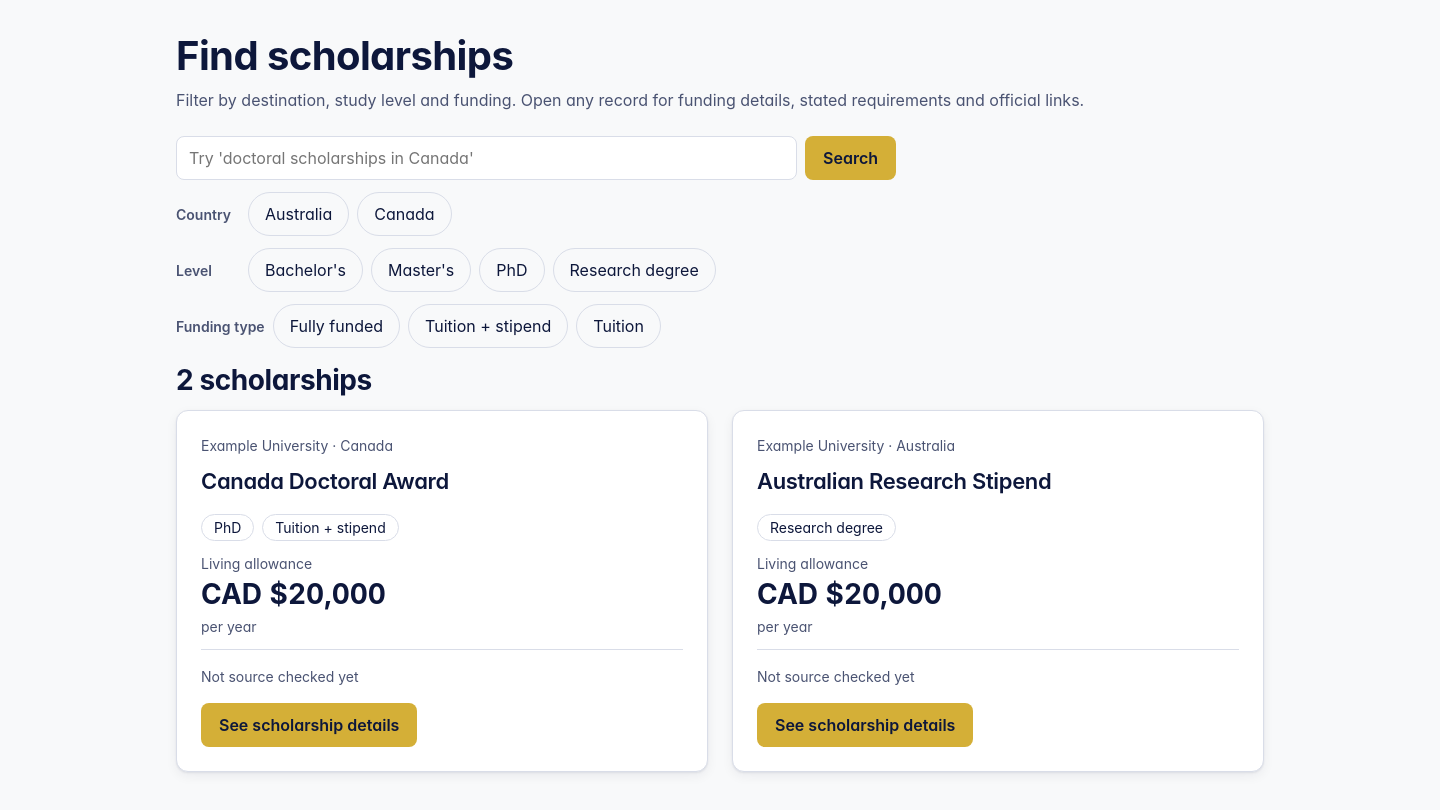
Scenario: ExplorePage › submits a search and shows it as an active filter
The image size is (1440, 810).
Type "australia" into the field named "Search scholarships" at (486, 158), box [176,136,797,180]
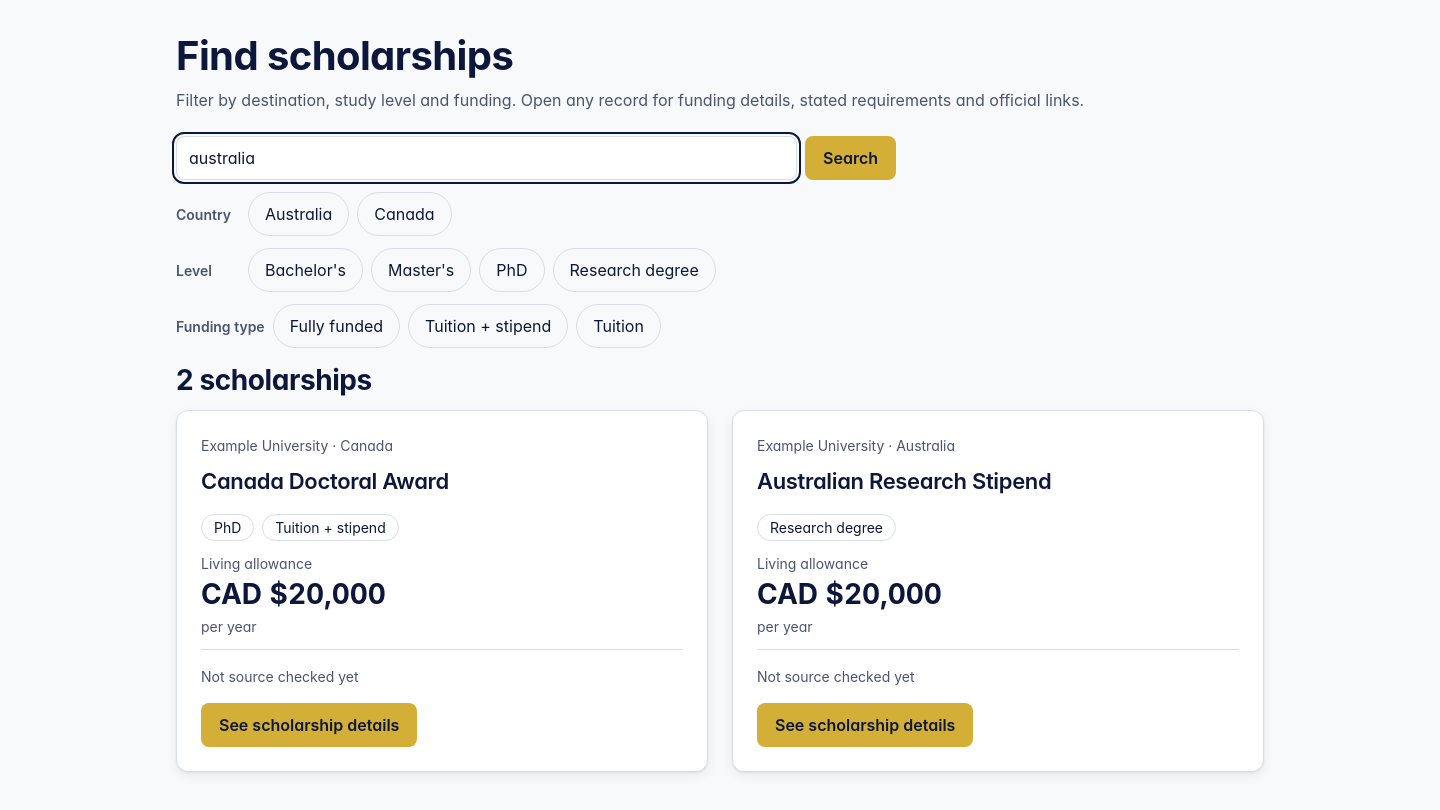
Click the button "Search" at (850, 158), box [805,136,896,180]
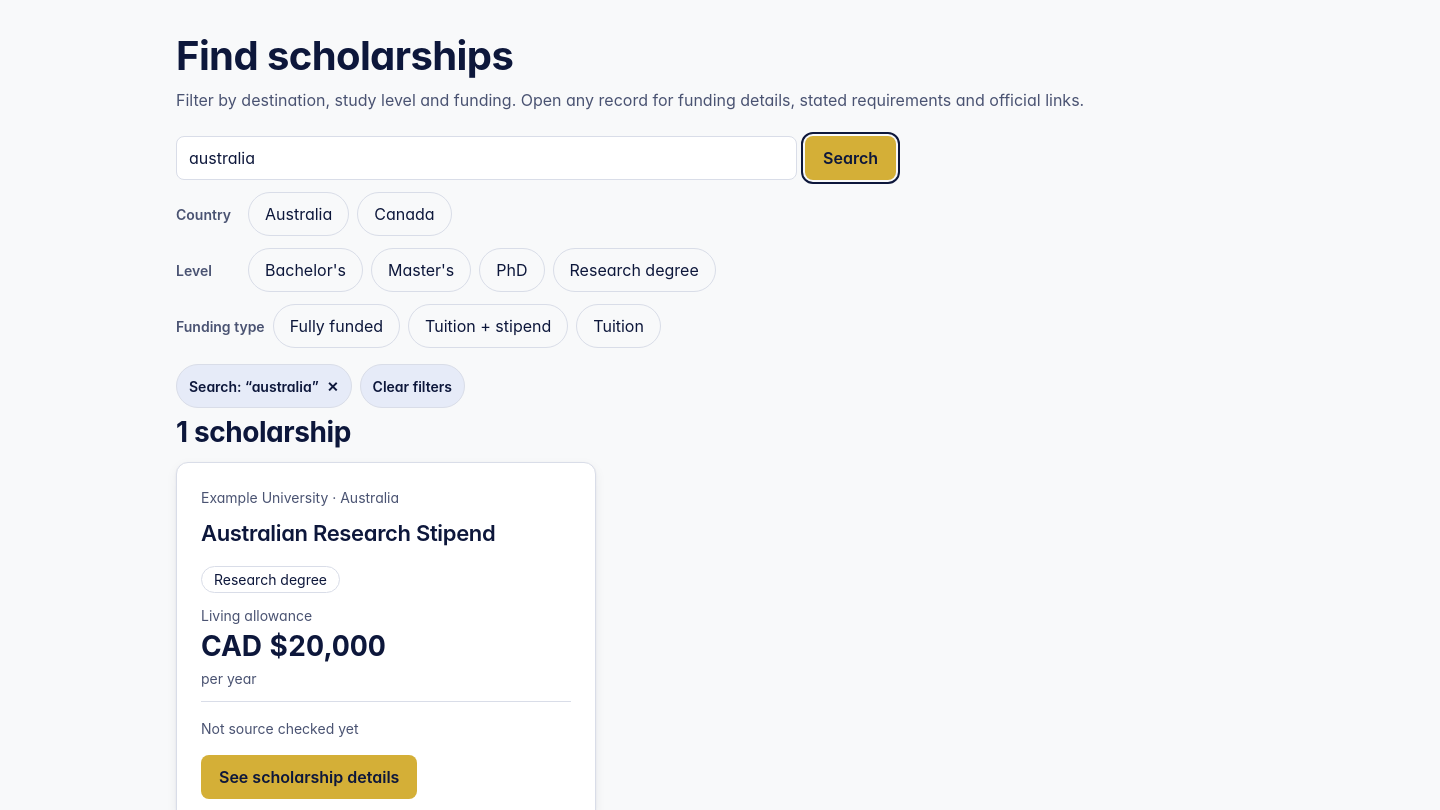
Check: the heading "1 scholarship" is shown, box [176,415,351,449]
Check: the button with aria-label "Remove filter australia" is shown, box [176,364,352,408]
